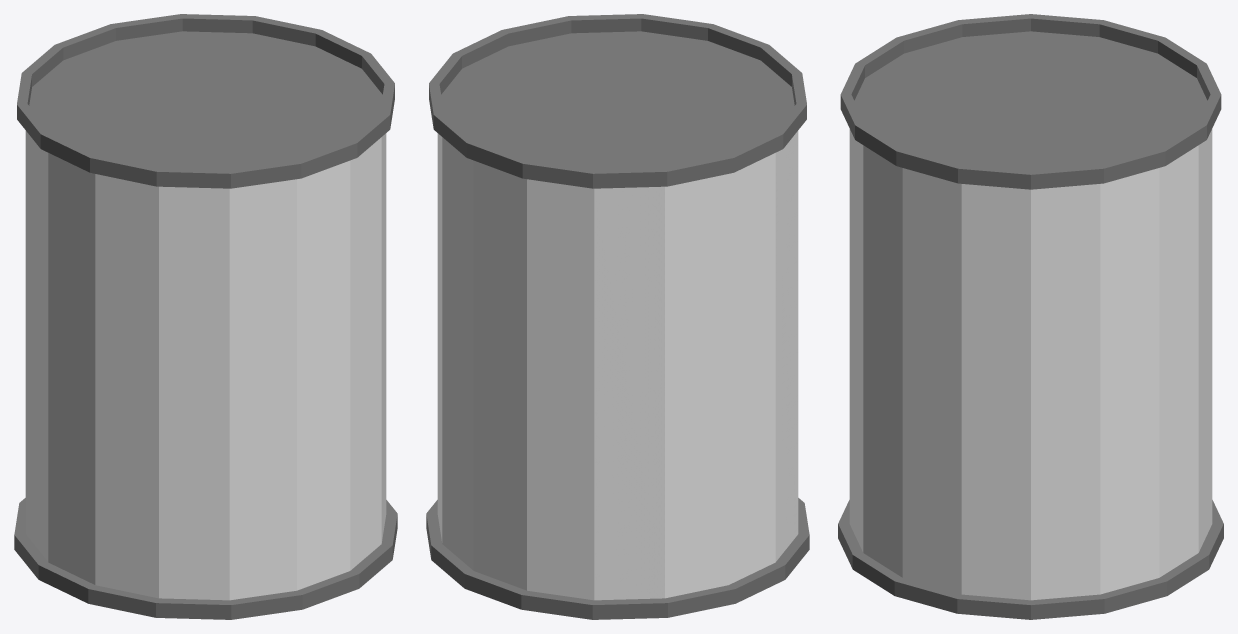
The model's file is CannedFood_04.fbx.
3 renders of one model, left to right at view 1: azimuth 30°, elevation 25°; view 2: azimuth 150°, elevation 25°; view 3: azimuth 270°, elevation 25°, orthographic.
Visible parts, largest first — view 1: CannedFood_04; view 2: CannedFood_04; view 3: CannedFood_04.
Boxes of the visible parts, left/top/right/bottom form: CannedFood_04: left=14, top=14, right=397, bottom=619; CannedFood_04: left=426, top=14, right=809, bottom=619; CannedFood_04: left=838, top=14, right=1223, bottom=619.
Bounding box in the file's own units: 15.03 × 19.09 × 15.03.
